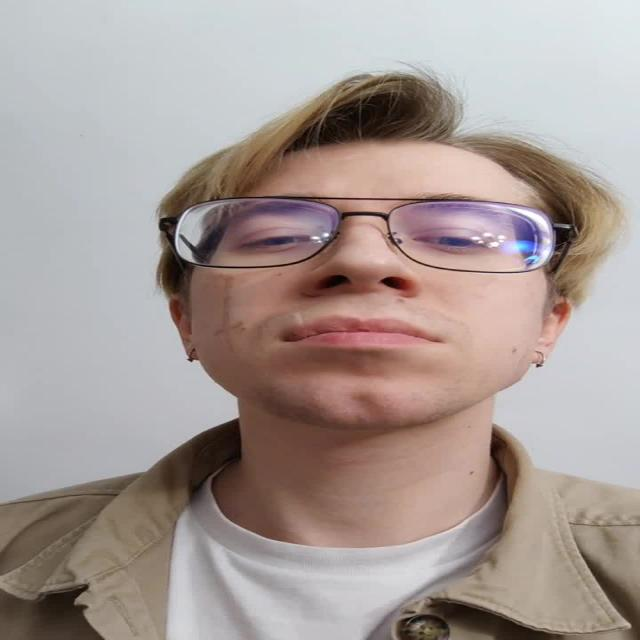earlobe: (530, 296, 575, 365), (166, 292, 202, 361)
